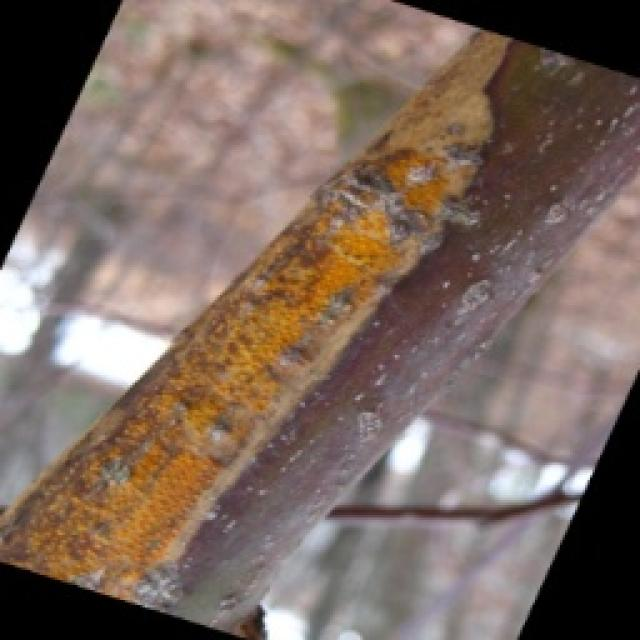Golden_canker: (44, 36, 512, 636)
